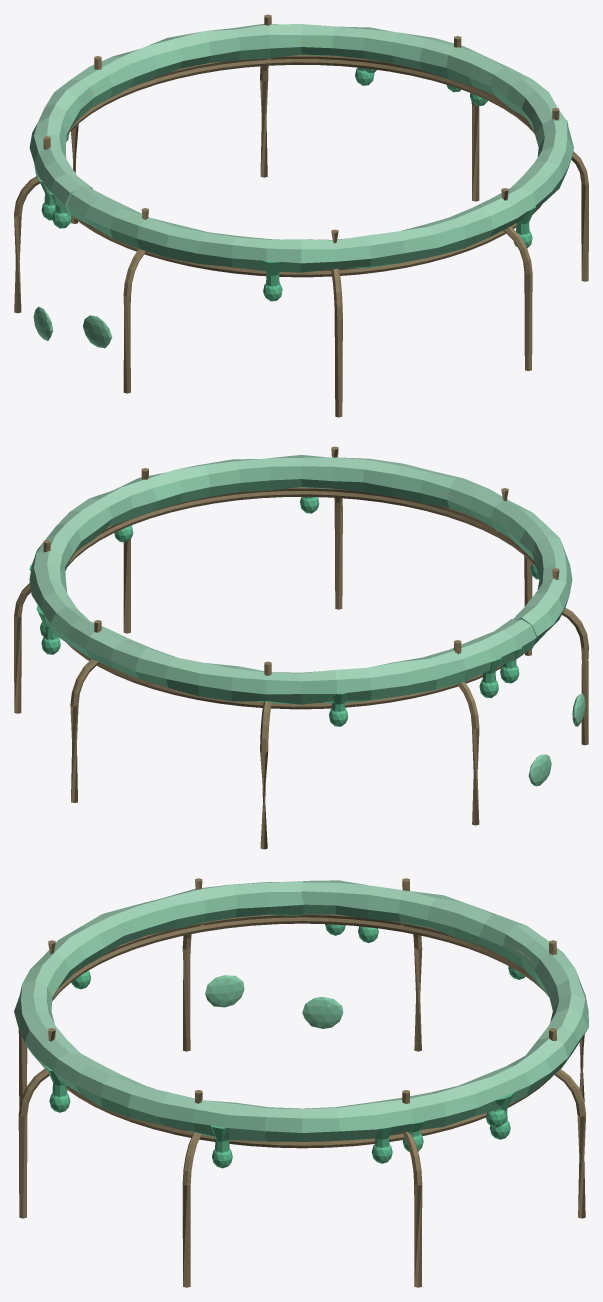
File: goo_jar_trim_3_mid.fbx
The picture shows the model from 3 angles, top to bottom: view 1: azimuth 30°, elevation 25°; view 2: azimuth 150°, elevation 25°; view 3: azimuth 270°, elevation 25°; orthographic projection. The views are drawn at different scales.
Parts seen in each view (by area): view 1: goo_jar_trim_3_mid; view 2: goo_jar_trim_3_mid; view 3: goo_jar_trim_3_mid.
Part boxes in pixels (bbox=[...]): goo_jar_trim_3_mid: bbox=[14, 14, 588, 417]; goo_jar_trim_3_mid: bbox=[14, 446, 588, 849]; goo_jar_trim_3_mid: bbox=[14, 878, 588, 1287].
Bounding box in the file's own units: 47.64 × 16.05 × 45.98.
